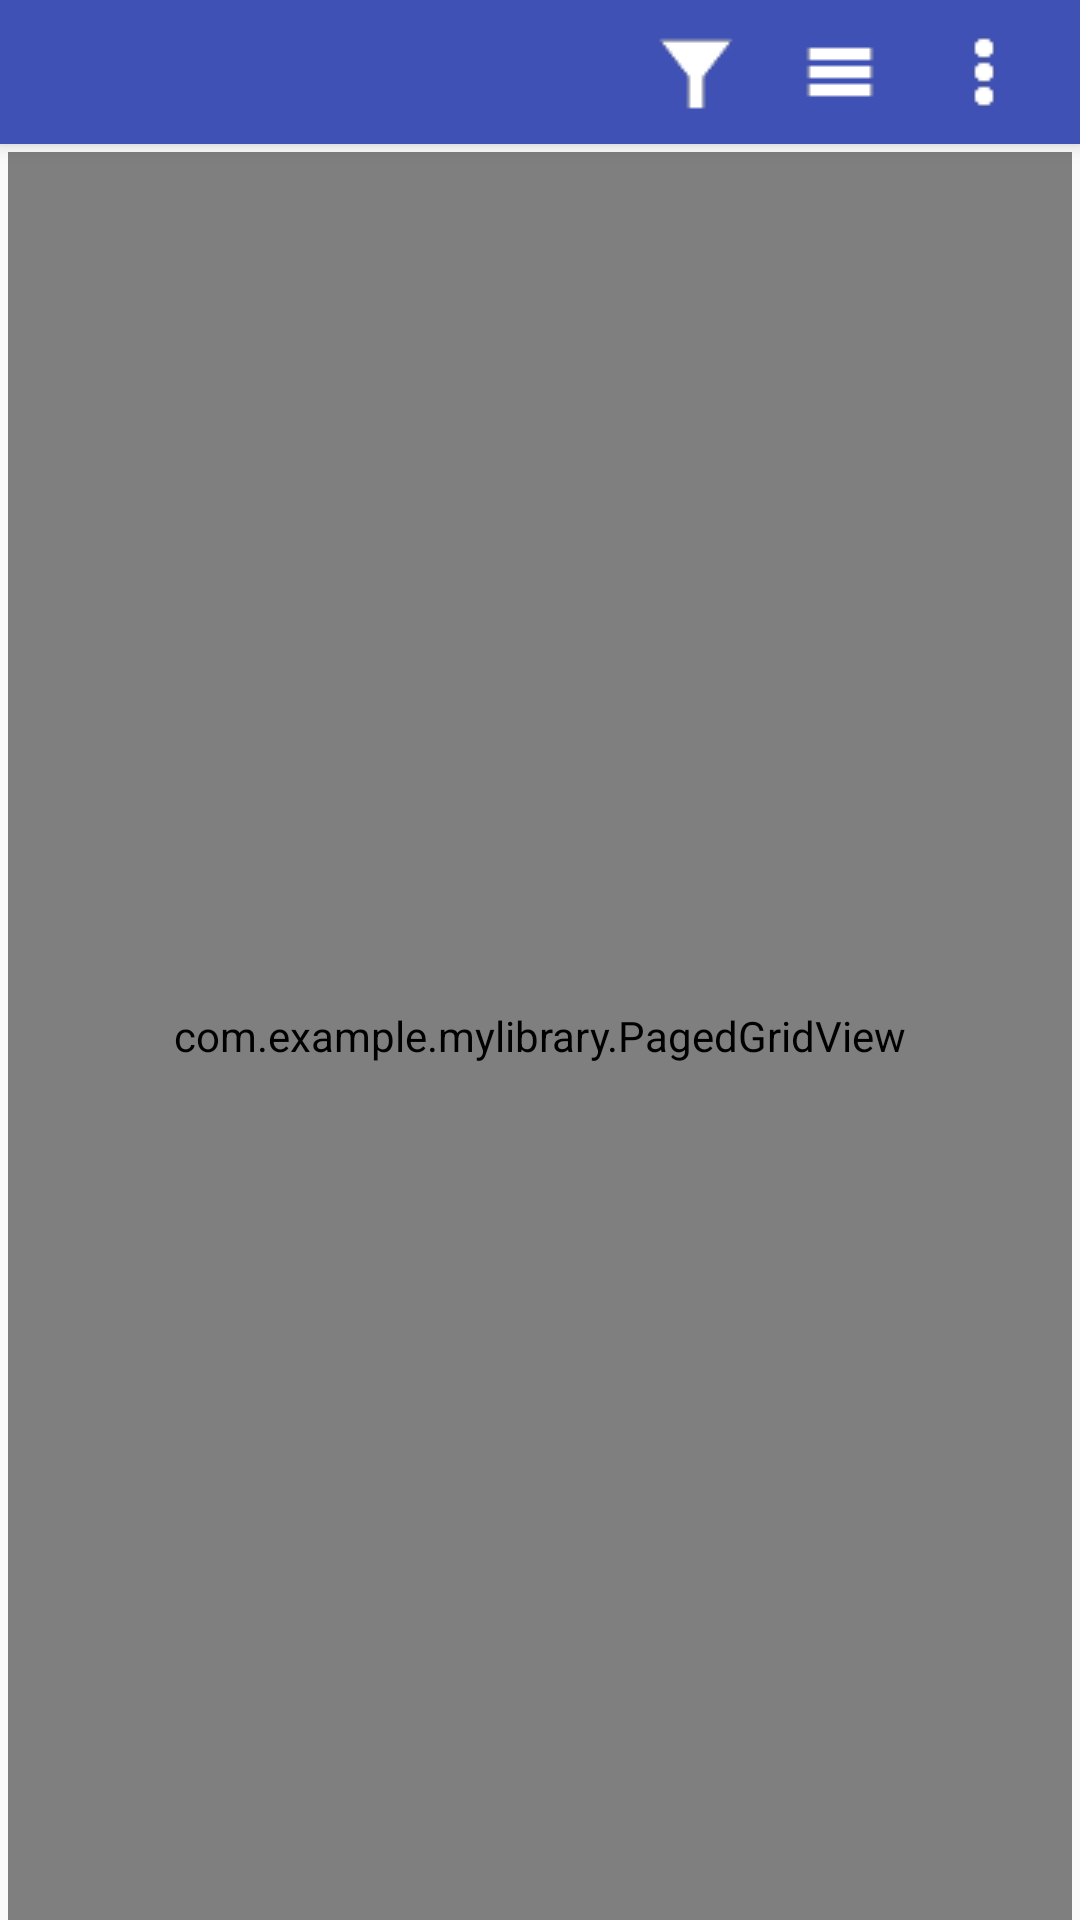

Where icons sit on this 1080*1920 app screen, as [x1, y1, x2, y2]:
Filter by format: [660, 39, 732, 109]
List: [807, 47, 873, 97]
More options: [973, 38, 995, 107]
